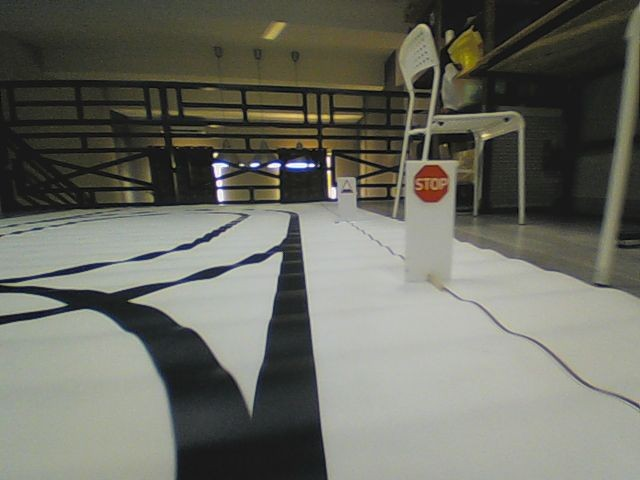Stop: (411, 163, 450, 205)
